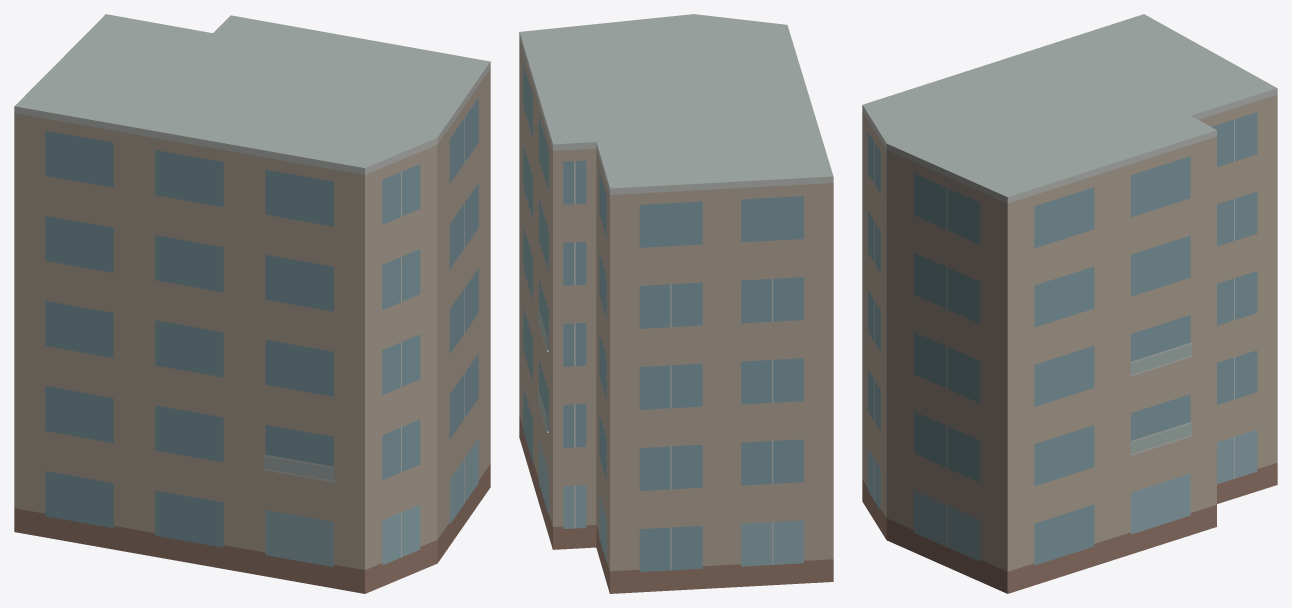
Rendered from survey-upis-33044500.glb.
3 views of the same model, side by side, from view 1: azimuth 30°, elevation 25°; view 2: azimuth 150°, elevation 25°; view 3: azimuth 270°, elevation 25° (orthographic). The views are drawn at different scales.
Visible parts, largest first — view 1: survey-upis-33044500.tmp; view 2: survey-upis-33044500.tmp; view 3: survey-upis-33044500.tmp.
Part boxes in pixels (box(x1,y1,x2,y2)): survey-upis-33044500.tmp: box(14, 14, 490, 593); survey-upis-33044500.tmp: box(519, 14, 833, 593); survey-upis-33044500.tmp: box(862, 14, 1277, 593).
Bounding box in the file's own units: 15.12 × 15.25 × 14.47.
